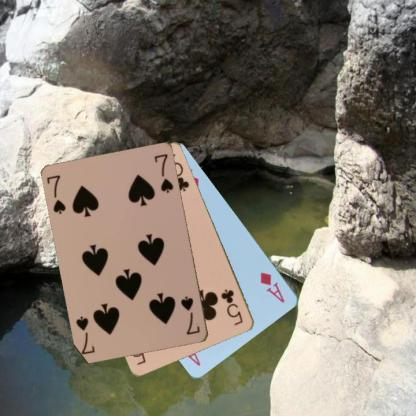5c: (218, 287, 244, 327)
7s: (44, 172, 68, 216), (178, 294, 202, 336)
Ad: (258, 269, 286, 304)
